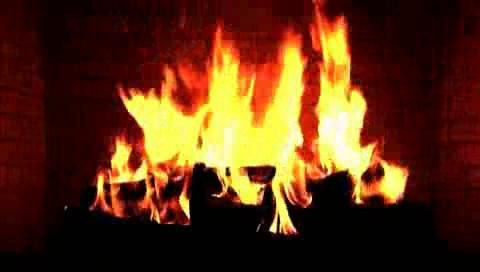fire: (118, 30, 407, 232)
